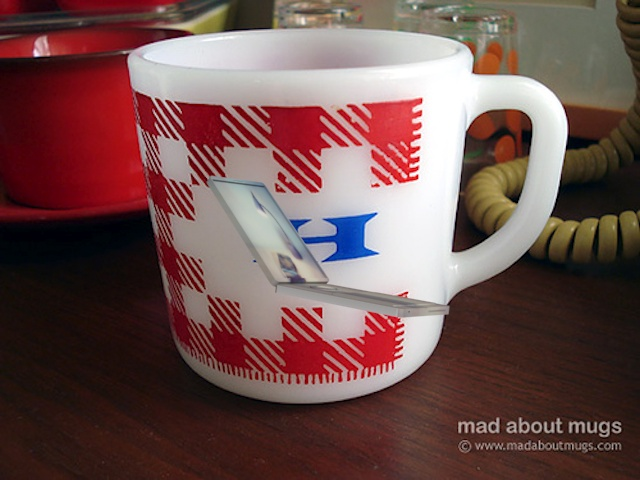mobile_phone: (201, 169, 464, 320)
